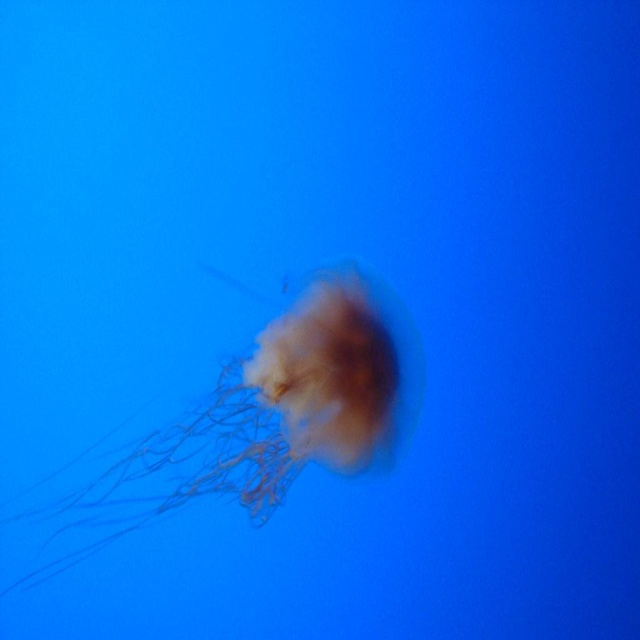Jellyfish: (0, 250, 429, 617)
